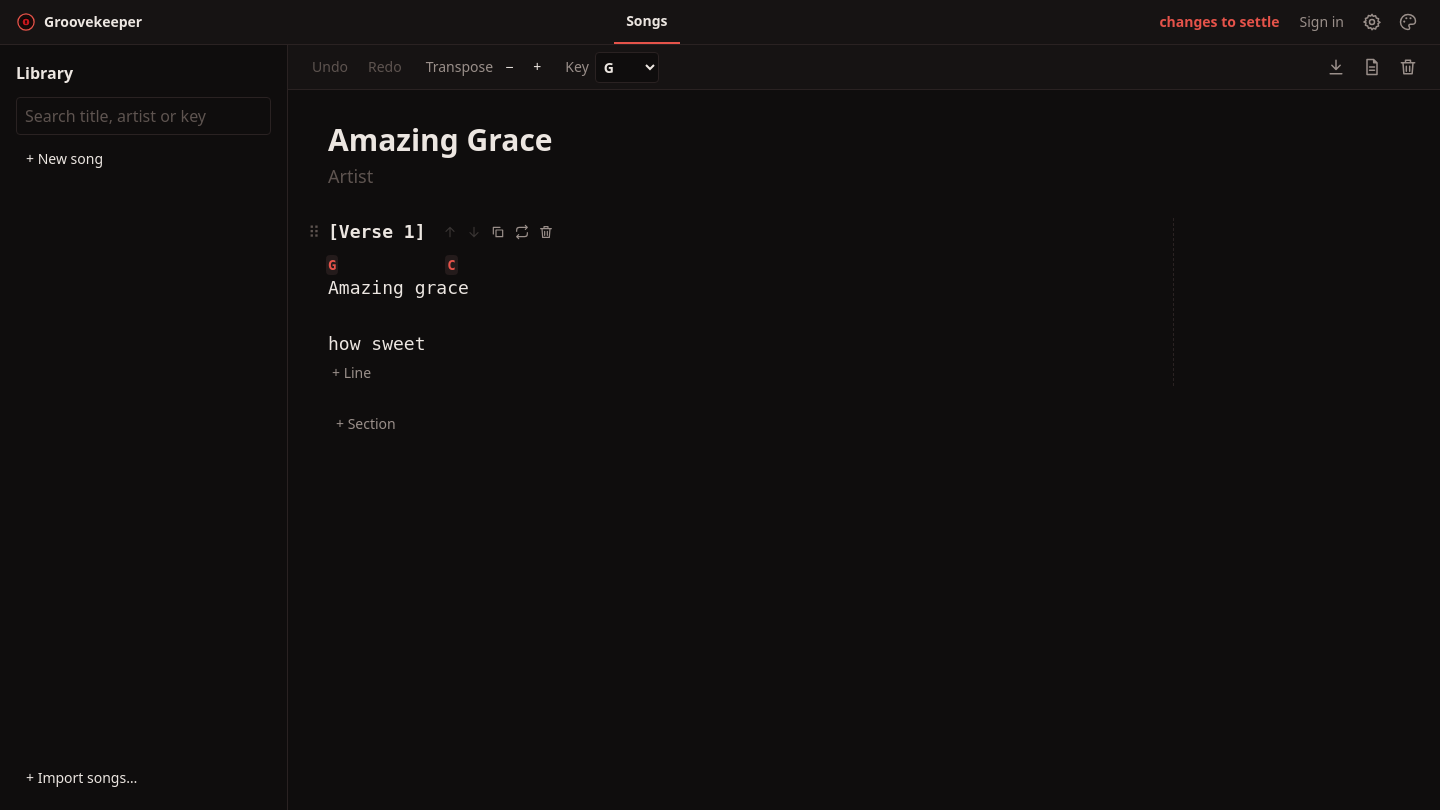
Test: the editor › removes a chord by tapping it, then Remove (no right-click on a phone)
Click the button "G" at (332, 265), box left=326, top=255, right=338, bottom=275
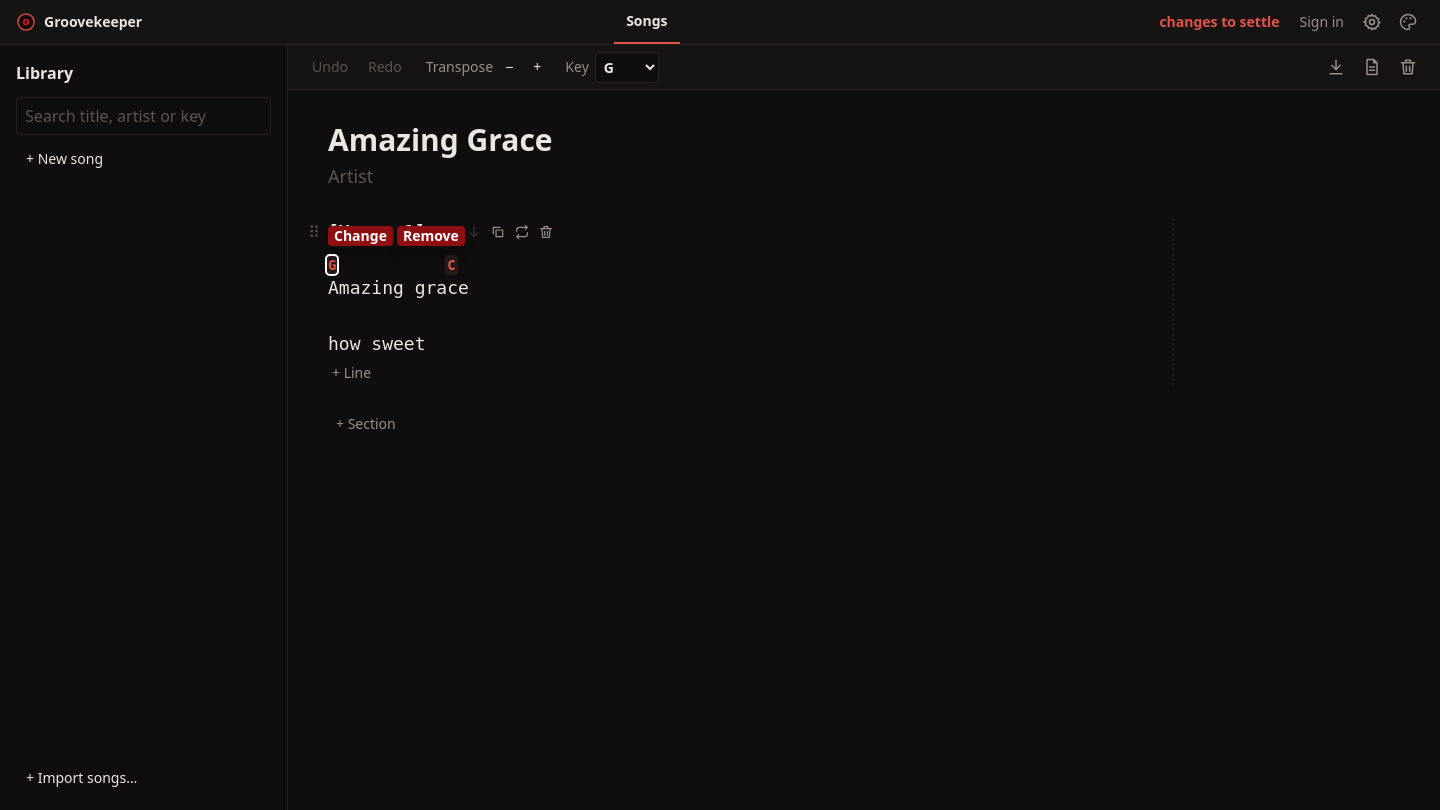
Click the button "Remove" at (431, 236), box left=397, top=226, right=465, bottom=246
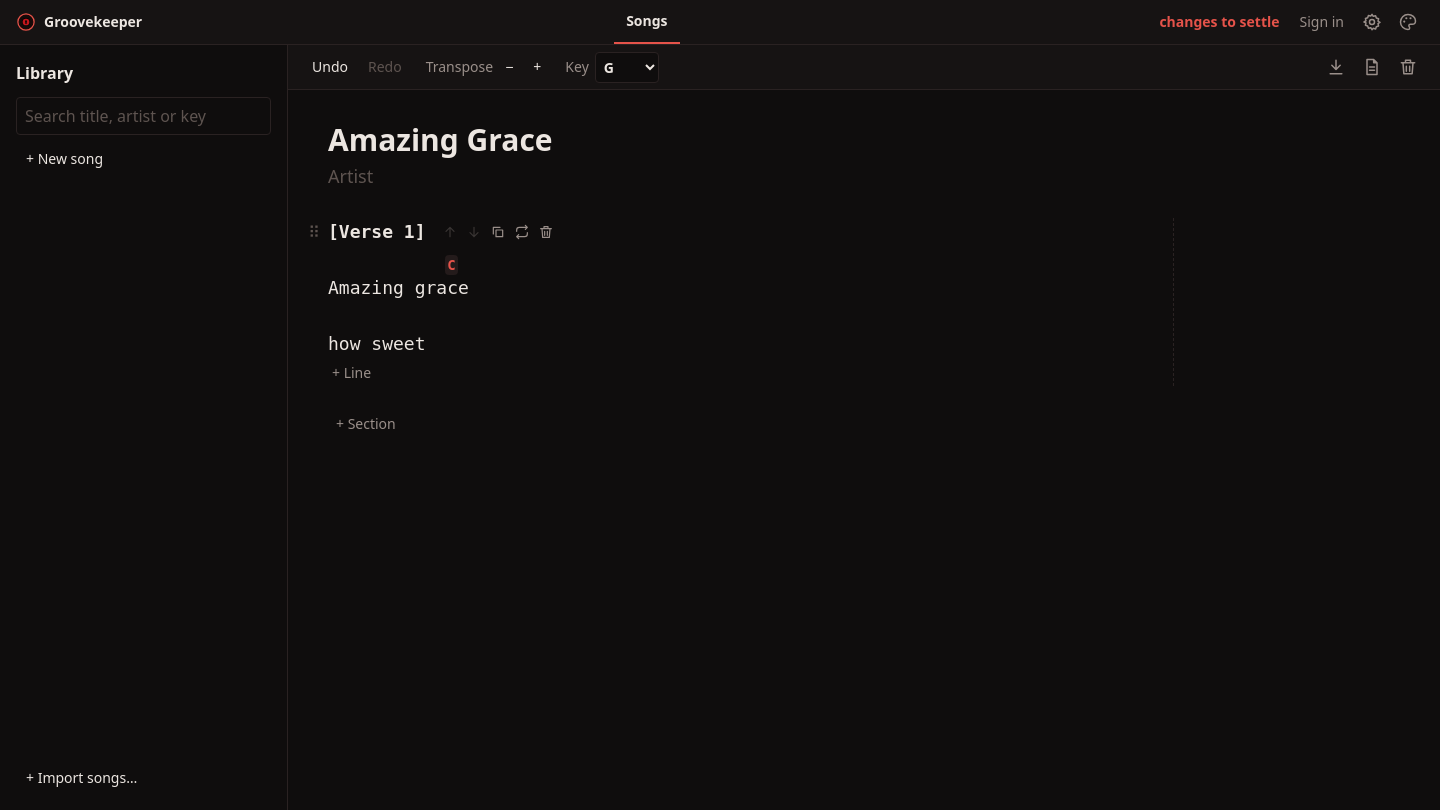
Check: the button "Remove" is gone
